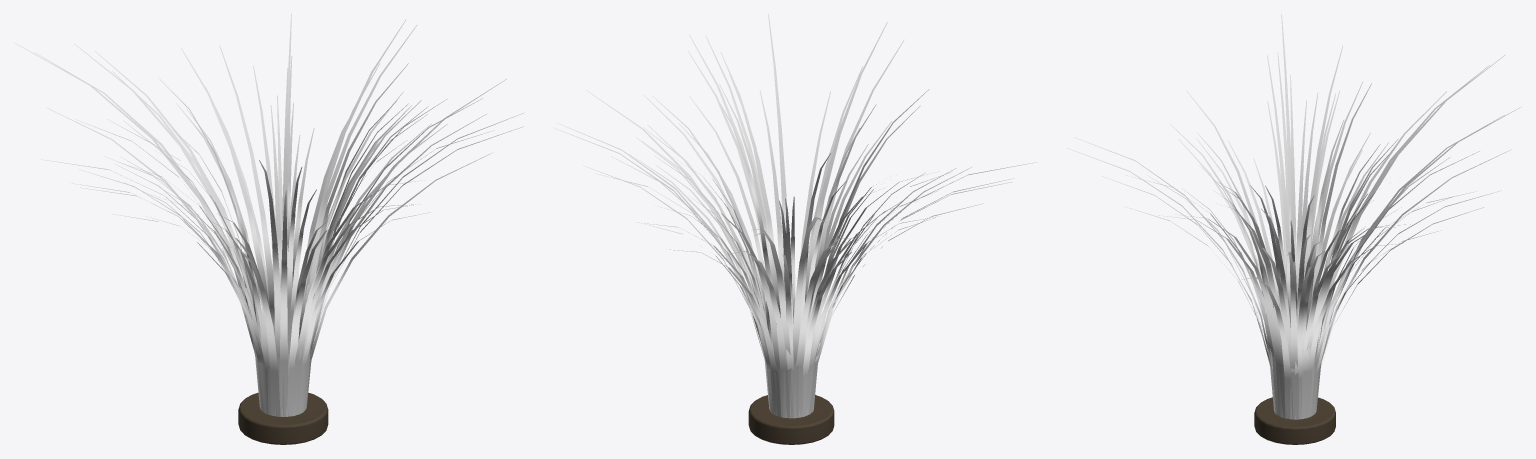
The model's file is grass-ornamental.glb.
The picture shows the model from 3 angles, left to right: view 1: azimuth 30°, elevation 25°; view 2: azimuth 150°, elevation 25°; view 3: azimuth 270°, elevation 25°; orthographic projection. The views are drawn at different scales.
Visible parts, largest first — view 1: Grass crown, Grass blade.002, Grass blade.032, Grass blade.043, Grass blade.061, Grass blade.040, Grass blade.020, Grass blade.054, Grass blade.027, Grass blade.036, Grass blade.069, Grass blade.078 (+22 smaller); view 2: Grass crown, Grass blade.014, Grass blade.042, Grass blade.067, Grass blade.008, Grass blade.023, Grass blade.054, Grass blade.075, Grass blade.030, Grass blade.077, Grass blade.046, Grass blade.028 (+14 smaller); view 3: Grass crown, Grass blade.005, Grass blade.012, Grass blade, Grass blade.019, Grass blade.065, Grass blade.018, Grass blade.013, Grass blade.038, Grass blade.068, Grass blade.001, Grass blade.052 (+20 smaller).
Boxes of the visible parts, x1,y1,x2,y2 form: Grass crown: (238, 392, 328, 444); Grass blade.002: (279, 190, 288, 416); Grass blade.032: (219, 45, 274, 338); Grass blade.043: (291, 204, 413, 416); Grass blade.061: (259, 160, 284, 416); Grass blade.040: (225, 247, 280, 416); Grass blade.020: (287, 225, 340, 416); Grass blade.054: (181, 48, 268, 305); Grass blade.027: (303, 24, 417, 314); Grass blade.036: (307, 63, 408, 300); Grass blade.069: (94, 50, 254, 298); Grass blade.078: (282, 167, 302, 416); Grass crown: (748, 395, 834, 444); Grass blade.014: (790, 218, 826, 418); Grass blade.042: (805, 22, 887, 302); Grass blade.067: (728, 251, 789, 418); Grass blade.008: (793, 237, 858, 418); Grass blade.023: (754, 232, 792, 417); Grass blade.054: (721, 213, 780, 415); Grass blade.075: (804, 216, 937, 416); Grass blade.030: (666, 249, 781, 416); Grass blade.077: (768, 14, 786, 241); Grass blade.046: (759, 90, 784, 289); Grass blade.028: (729, 74, 780, 317); Grass crown: (1254, 397, 1335, 444); Grass blade.005: (1287, 251, 1298, 419); Grass blade.012: (1159, 215, 1285, 418); Grass blade: (1242, 277, 1293, 419); Grass blade.019: (1304, 46, 1342, 277); Grass blade.065: (1303, 243, 1403, 418); Grass blade.018: (1320, 65, 1489, 334); Grass blade.013: (1176, 214, 1287, 418); Grass blade.038: (1311, 83, 1371, 301); Grass blade.068: (1293, 266, 1313, 419); Grass blade.001: (1302, 224, 1410, 418); Grass blade.052: (1281, 14, 1291, 252).
Bounding box in the file's own units: 1.45 × 1 × 1.34.
